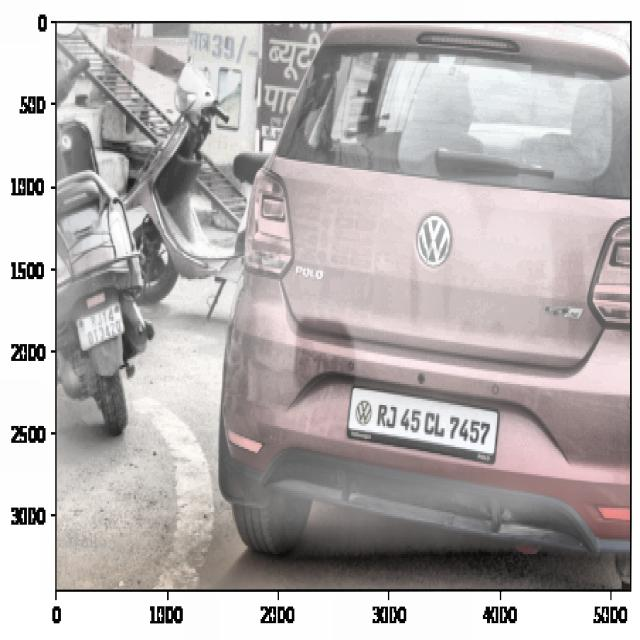license_plate: (373, 393, 493, 450)
